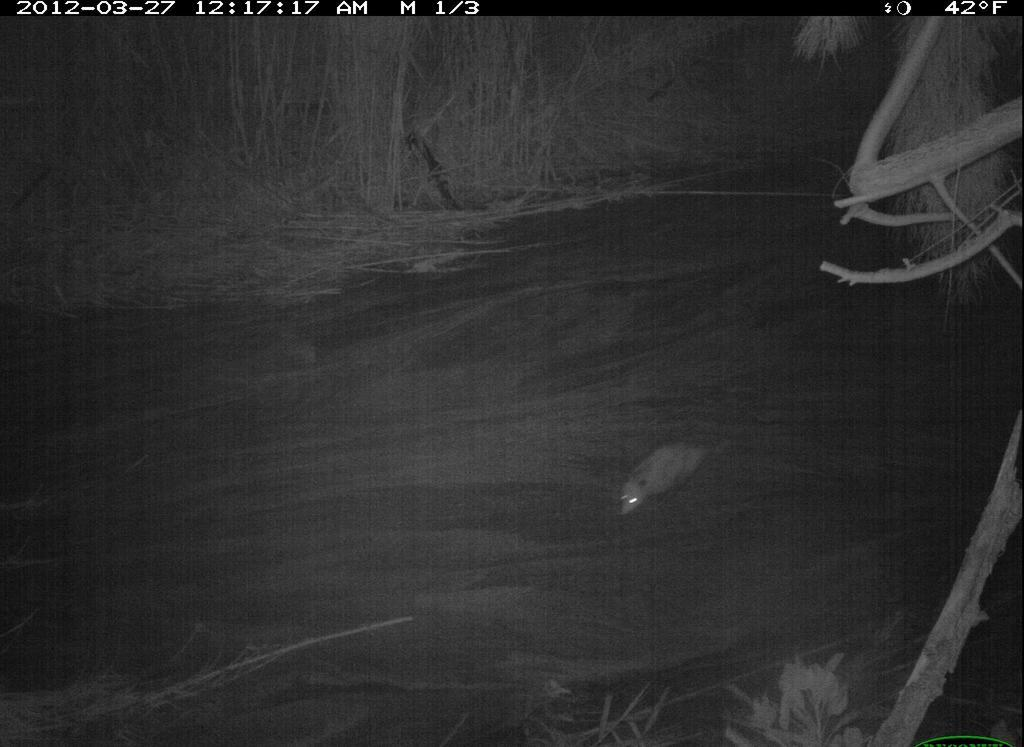opossum: (610, 432, 749, 527)
